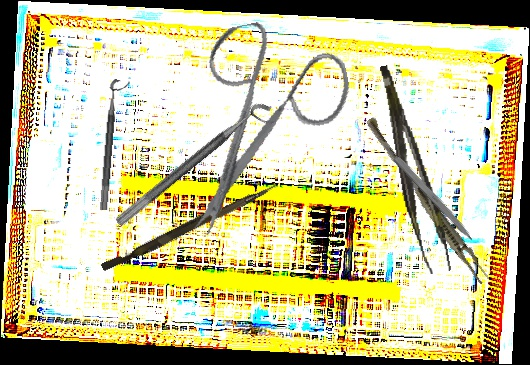Fixation Ring: (113, 96, 282, 240), (98, 78, 131, 212)
Iris Scissors: (154, 6, 374, 238)
Pusher: (100, 177, 278, 276)
Scalpel Handle: (381, 141, 476, 242)
Tissue Forceps: (359, 116, 494, 286), (379, 60, 452, 277)
